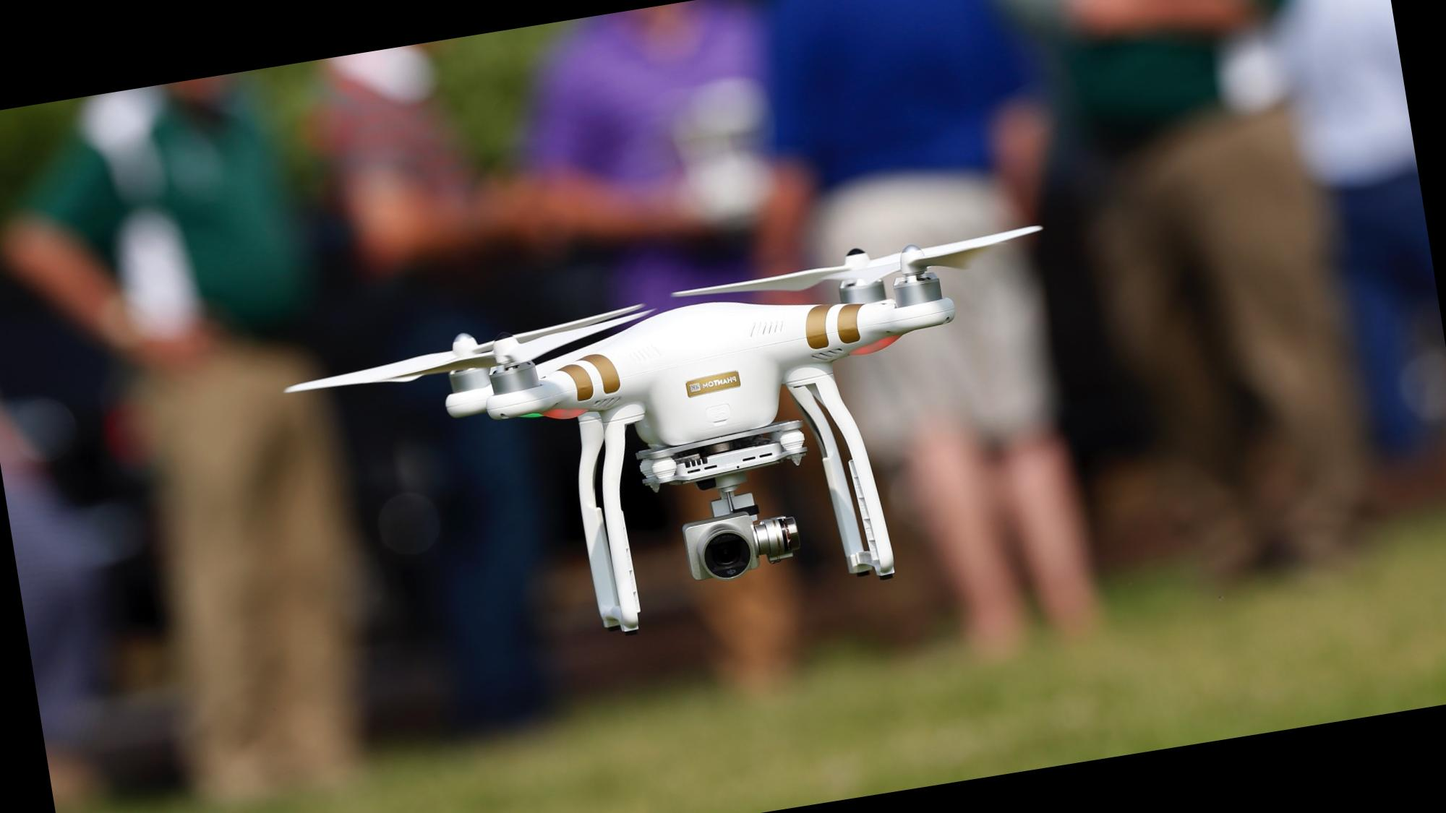drone: (327, 155, 1066, 674)
